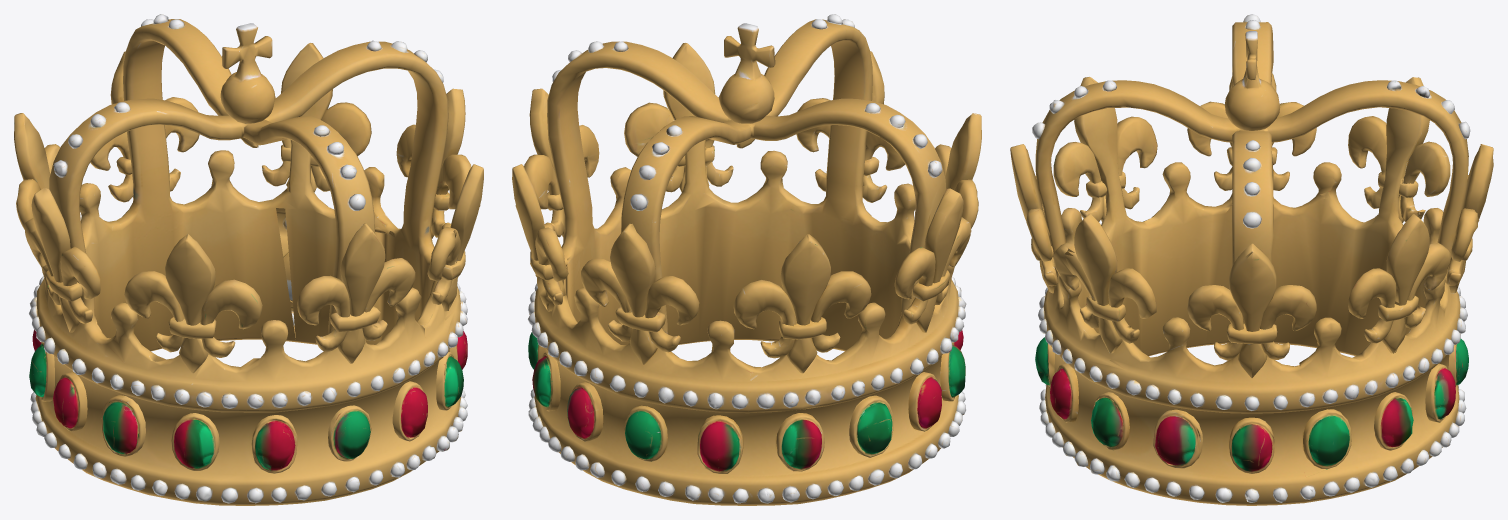
Rendered from crown_gold.glb.
3 views of the same model, side by side, from view 1: azimuth 30°, elevation 25°; view 2: azimuth 150°, elevation 25°; view 3: azimuth 270°, elevation 25° (orthographic). The views are drawn at different scales.
Bounding box in the file's own units: 0.9551 × 0.8384 × 0.9497.
1 material, 1 textured.
